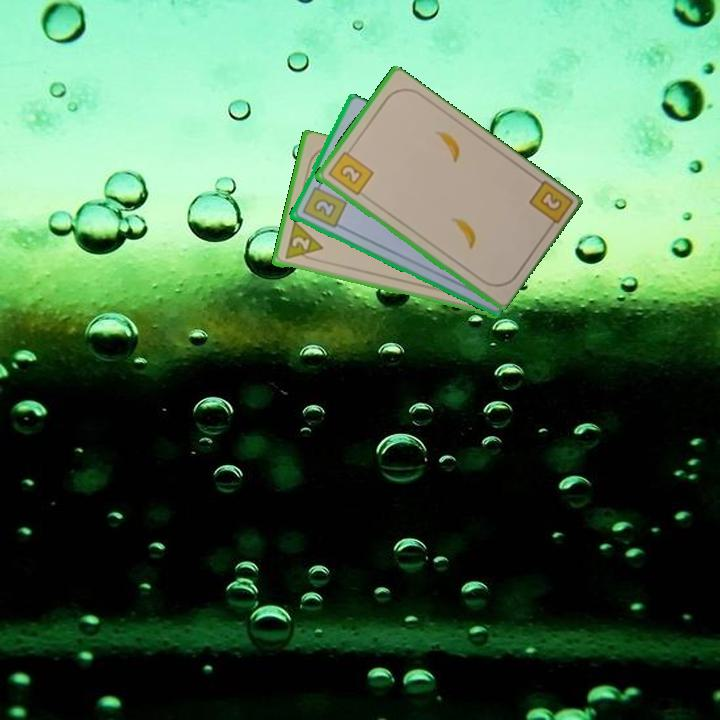2b: (324, 144, 376, 198), (525, 177, 573, 235), (298, 179, 349, 231)
2p: (281, 220, 325, 263)
